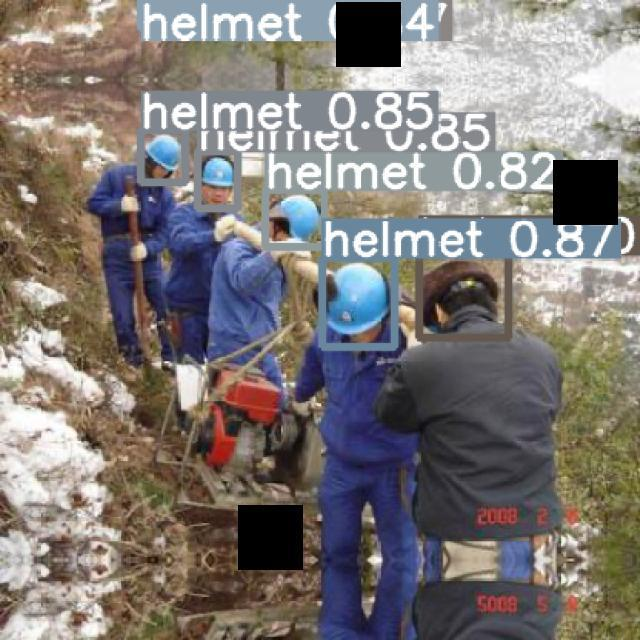blue helmet: (316, 259, 398, 344), (269, 191, 334, 241), (191, 154, 243, 194), (146, 124, 186, 176)
